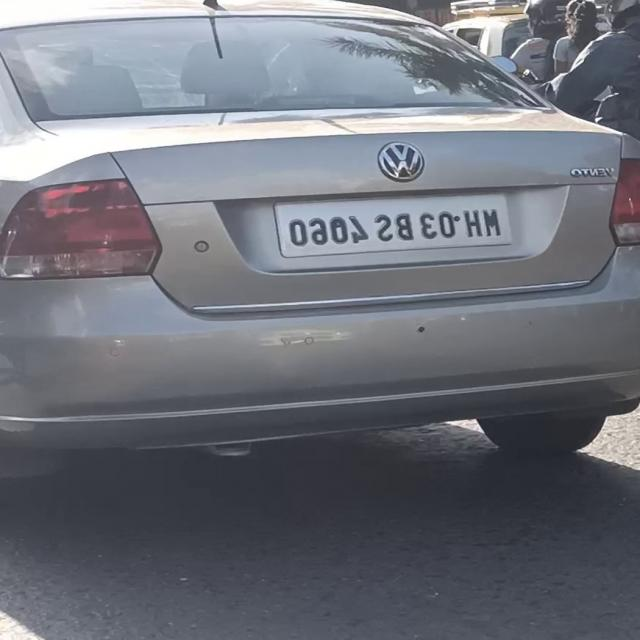license_plate: (263, 185, 517, 264)
